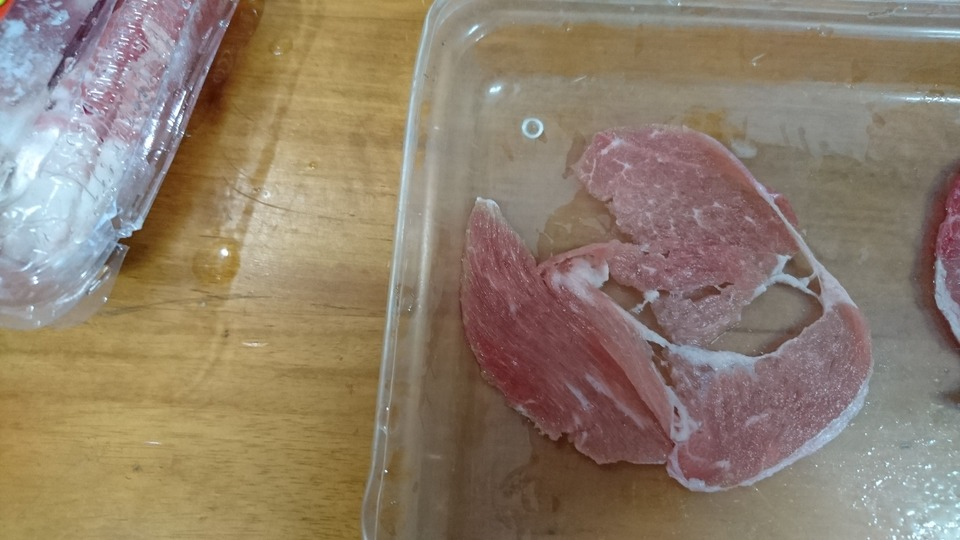restructured meat: (453, 139, 886, 485)
